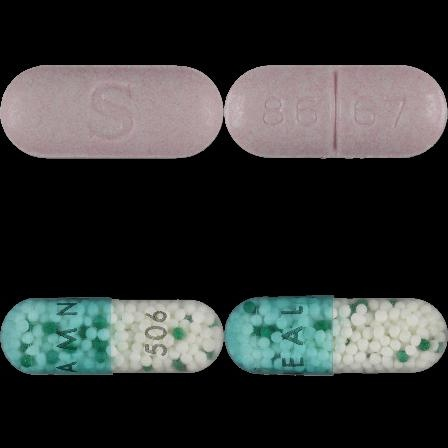49999-363: (0, 0, 224, 224)
